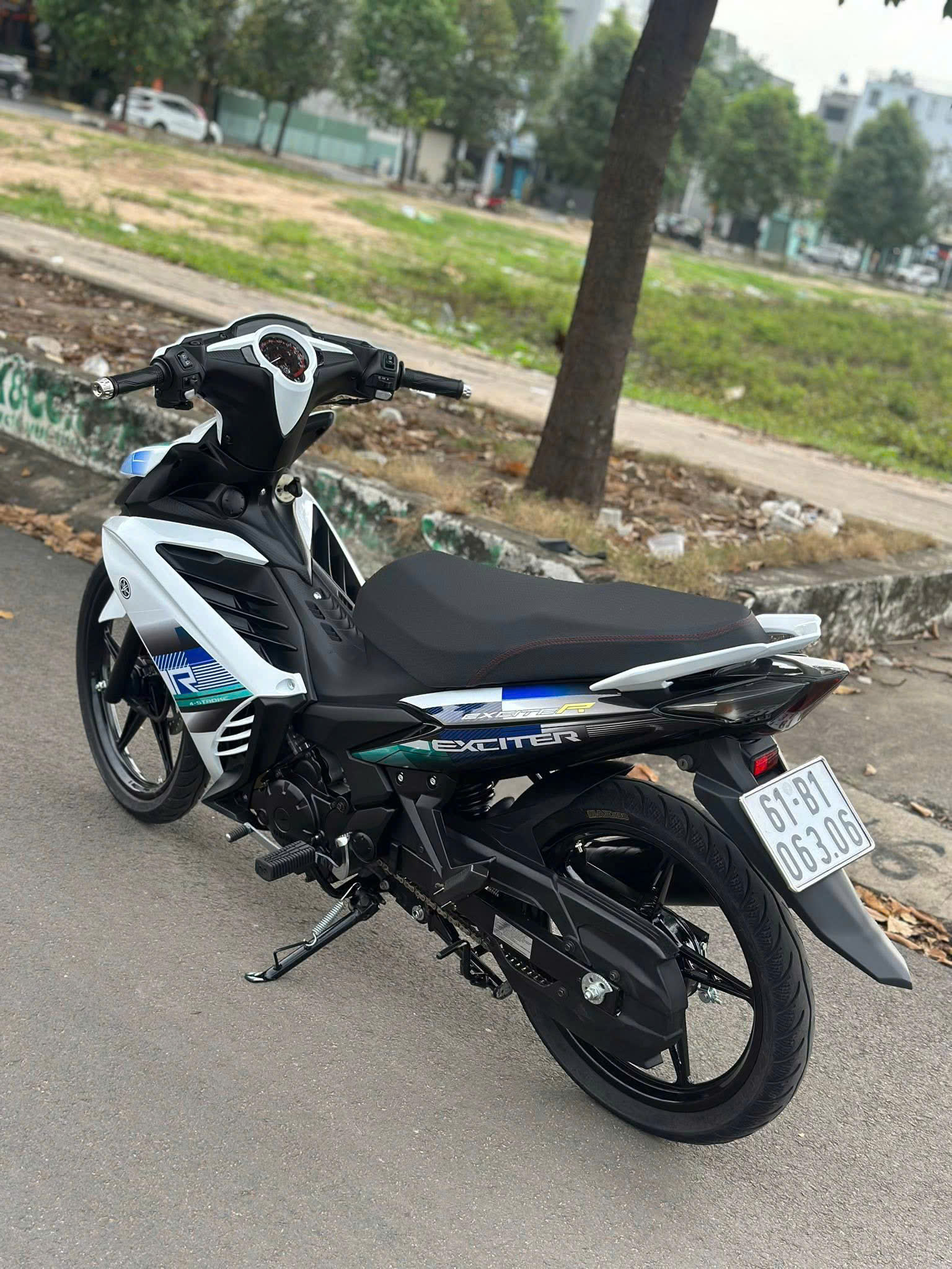Bien-so: (744, 751, 879, 894)
